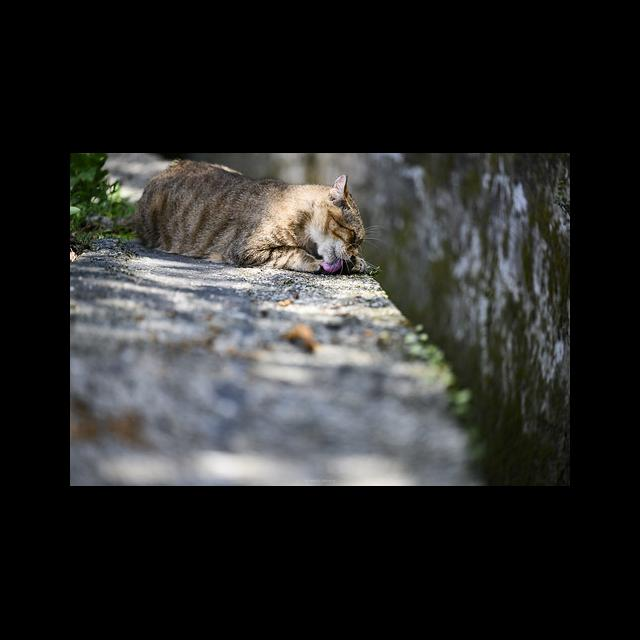animals: (139, 160, 366, 274)
